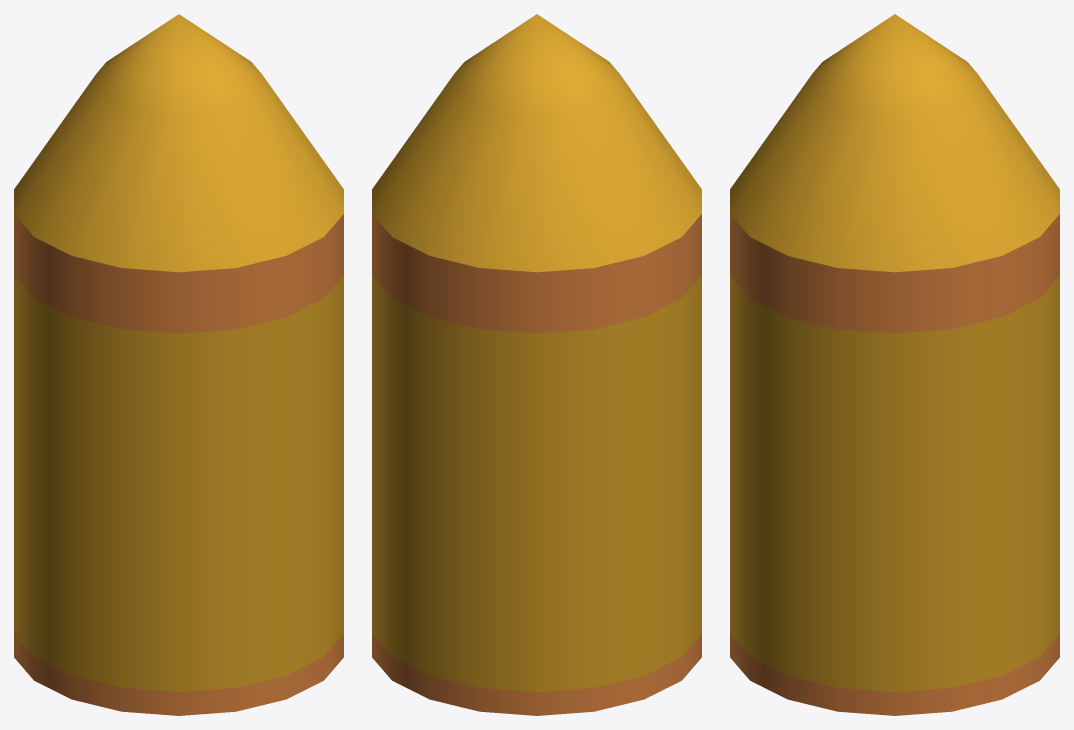
The model's file is Bullet.fbx.
3 renders of one model, left to right at view 1: azimuth 30°, elevation 25°; view 2: azimuth 150°, elevation 25°; view 3: azimuth 270°, elevation 25°, orthographic.
Visible parts, largest first — view 1: DefaultBullet; view 2: DefaultBullet; view 3: DefaultBullet.
Part boxes in pixels (bbox=[...]): DefaultBullet: bbox=[14, 14, 343, 715]; DefaultBullet: bbox=[372, 14, 701, 715]; DefaultBullet: bbox=[730, 14, 1059, 715].
Bounding box in the file's own units: 0.0564 × 0.1174 × 0.0556.
1 material, 1 textured.
